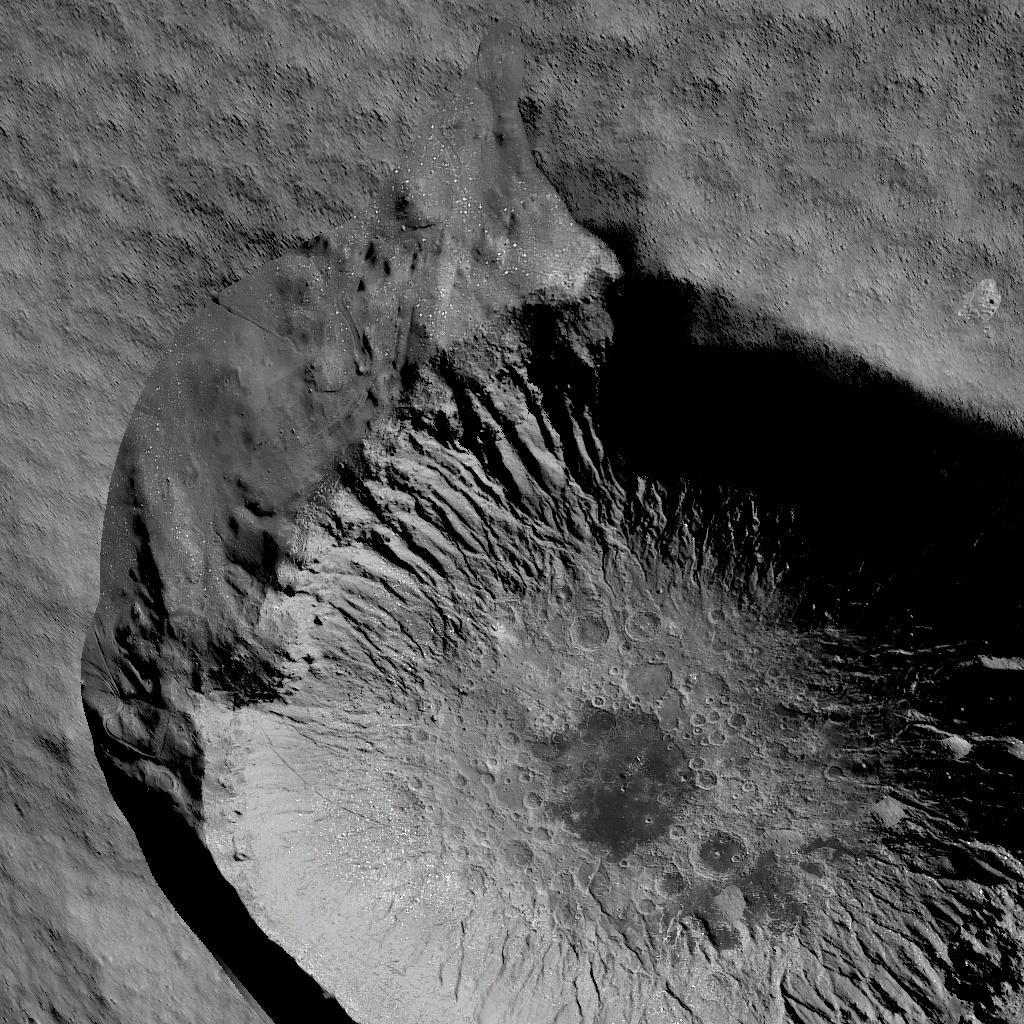Crater: (3, 114, 1024, 1024)
Plan surface: (1, 0, 1024, 99)
